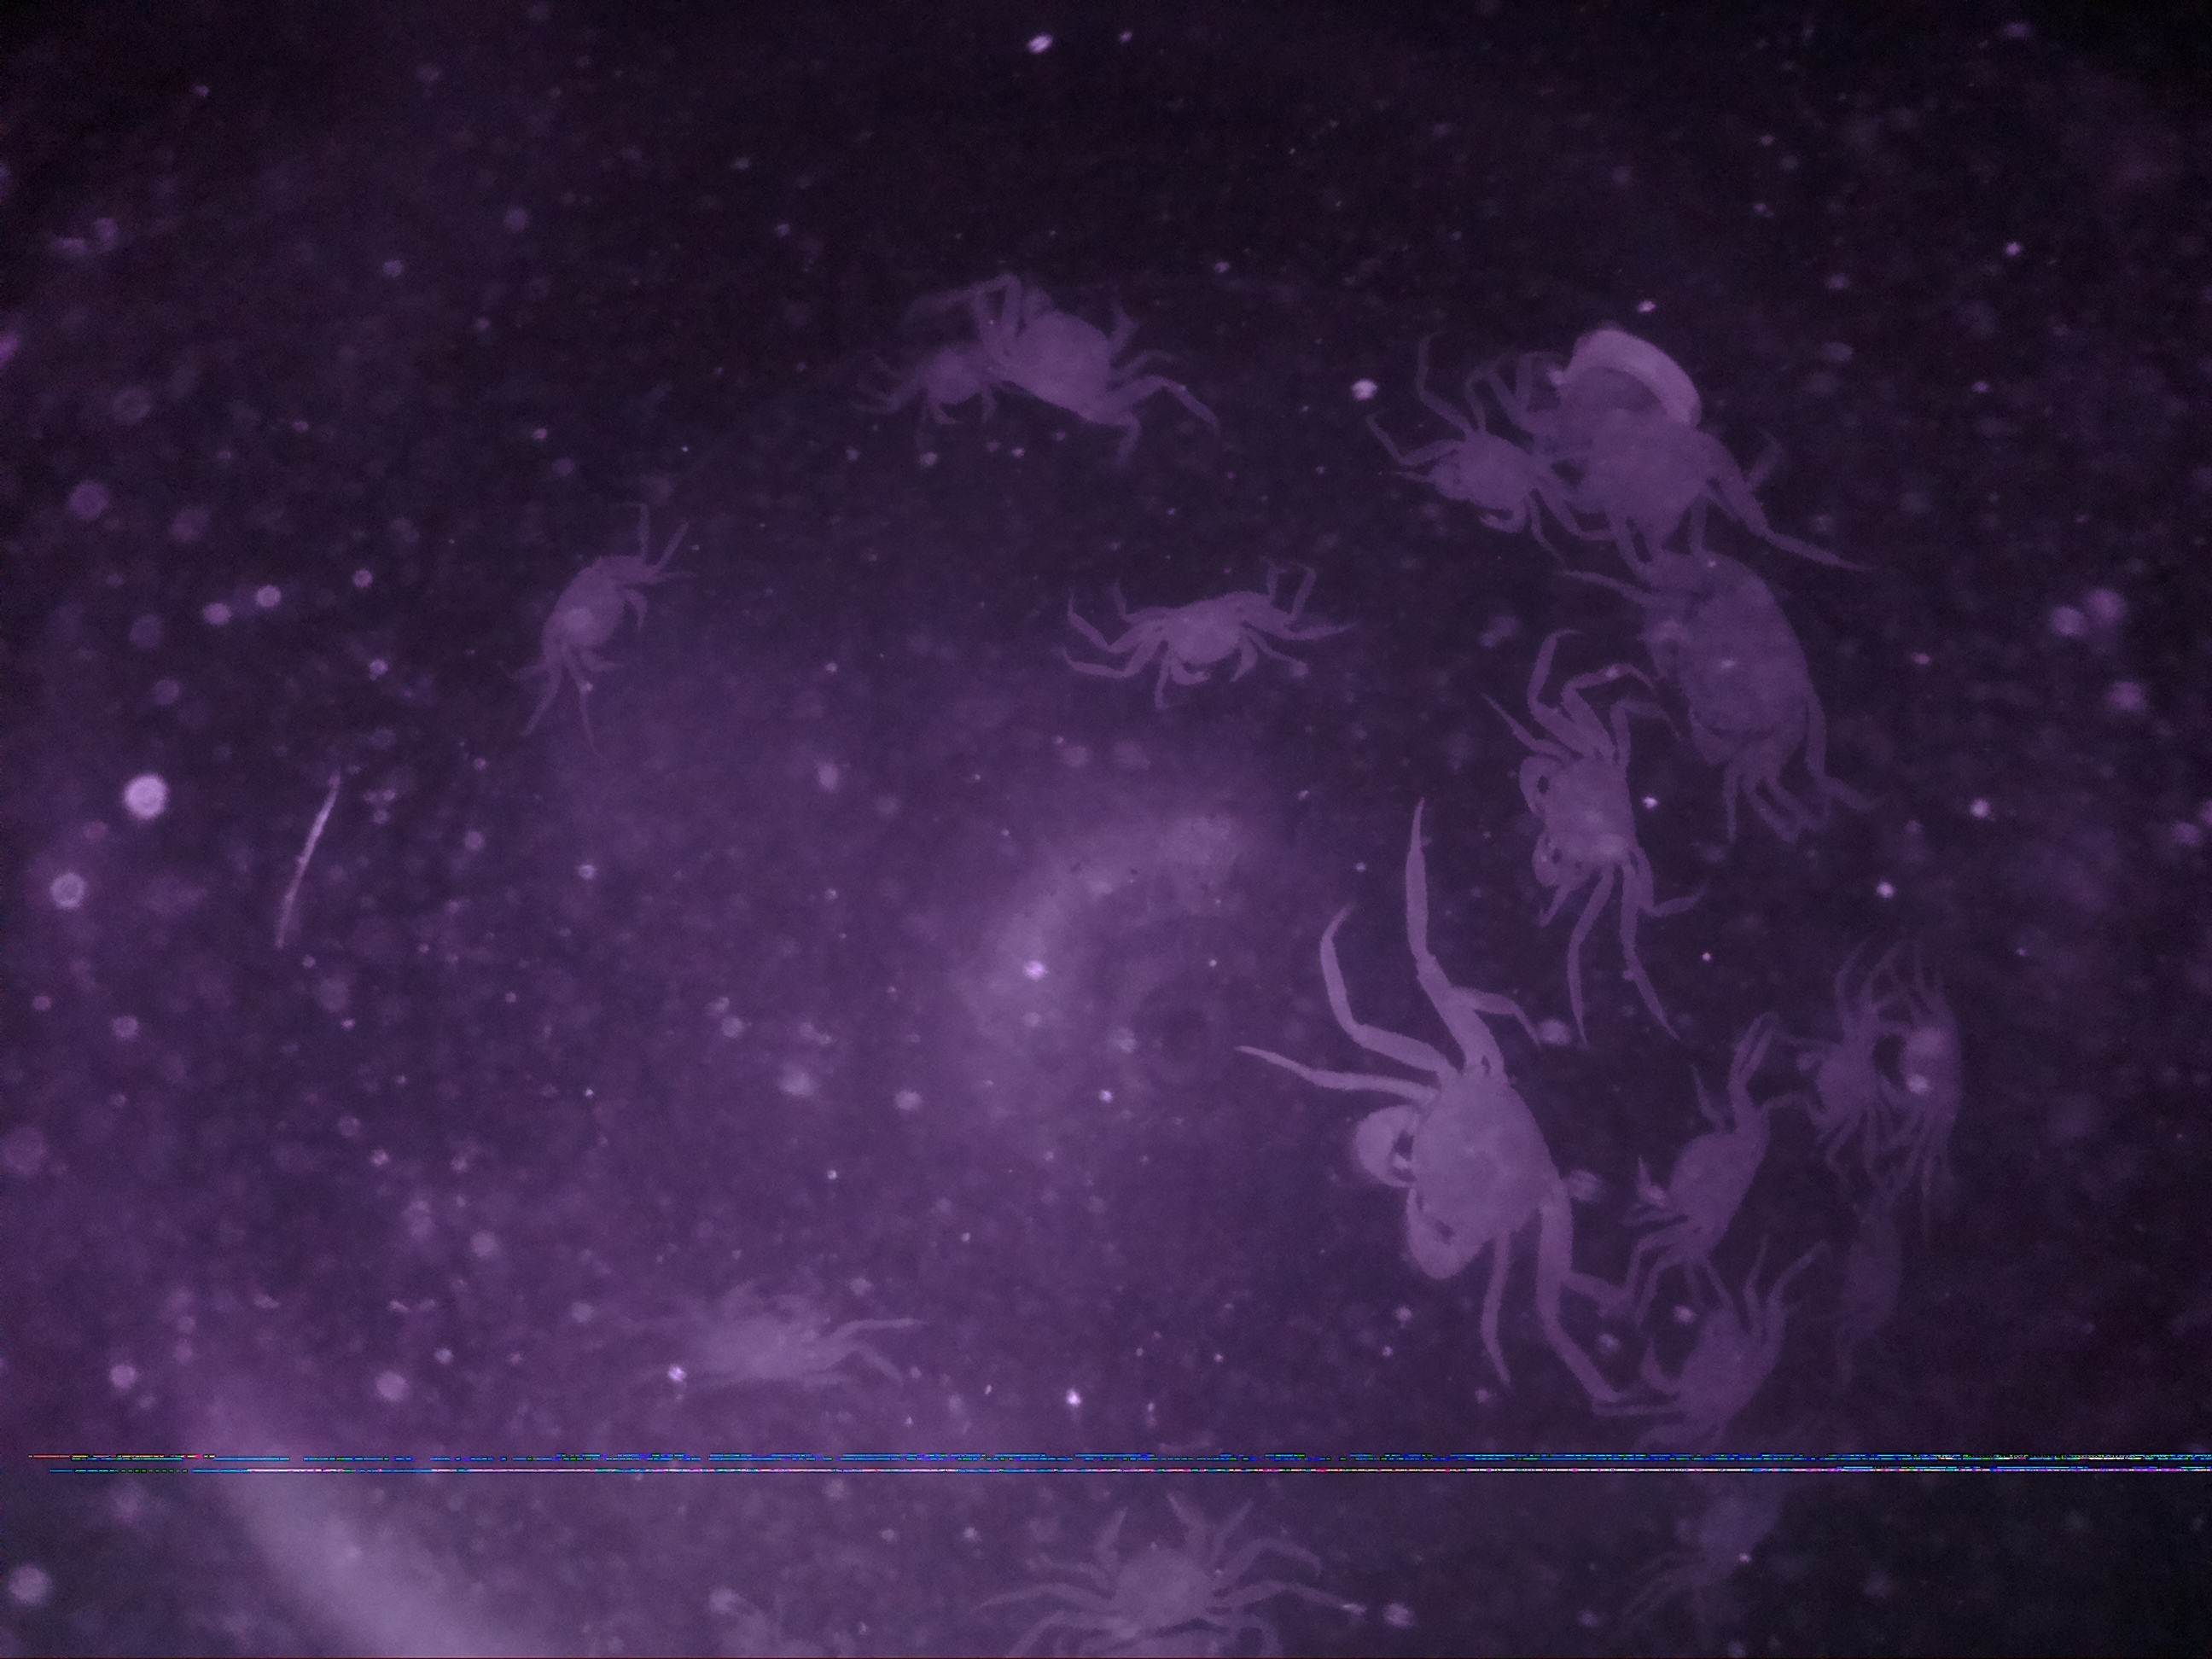Crab: (1339, 1042, 1581, 1288), (1623, 542, 1851, 775), (1616, 1053, 1777, 1272), (1082, 559, 1325, 702), (1498, 713, 1651, 931), (1406, 387, 1587, 552), (972, 281, 1155, 439), (535, 514, 681, 701), (1883, 985, 1986, 1148)
